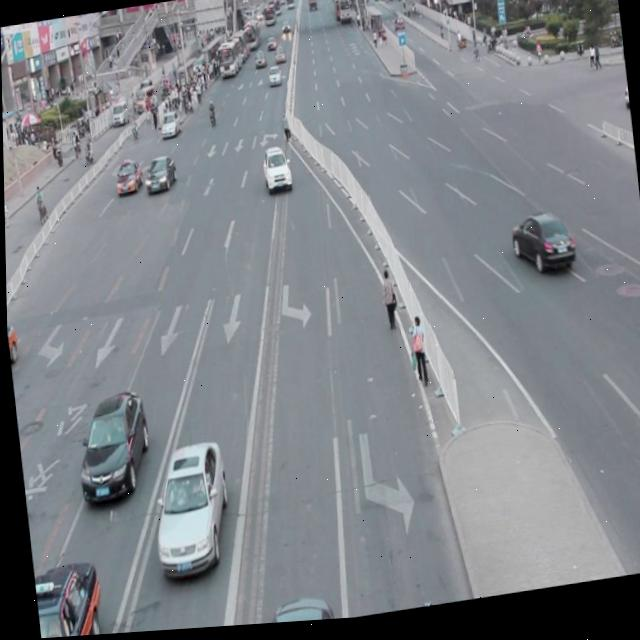car: (143, 438, 232, 581), (68, 386, 153, 510), (30, 555, 104, 639), (506, 210, 575, 286), (259, 592, 333, 627), (259, 145, 291, 198), (141, 155, 177, 197), (113, 158, 143, 197), (6, 316, 20, 376)
